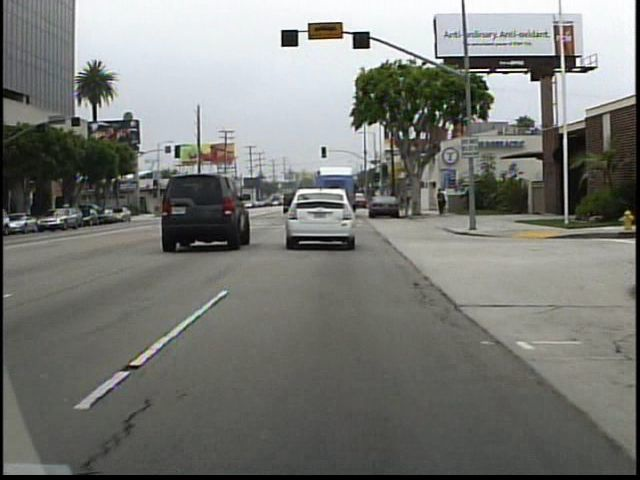person: (435, 187, 447, 218), (443, 186, 453, 214)
